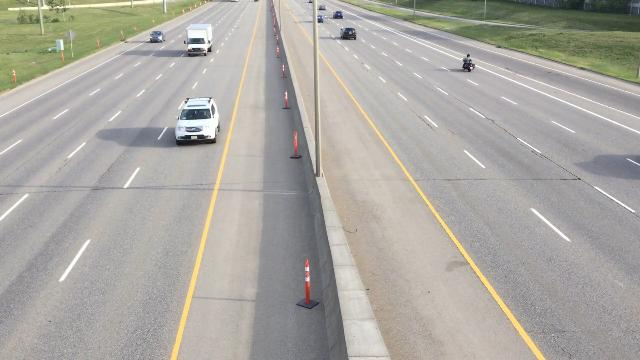car: (177, 97, 220, 147), (339, 26, 359, 41), (149, 29, 167, 44), (333, 9, 344, 21), (316, 16, 325, 24), (319, 4, 327, 10)
motorcycle: (460, 54, 477, 72)
truck: (186, 22, 214, 58)
